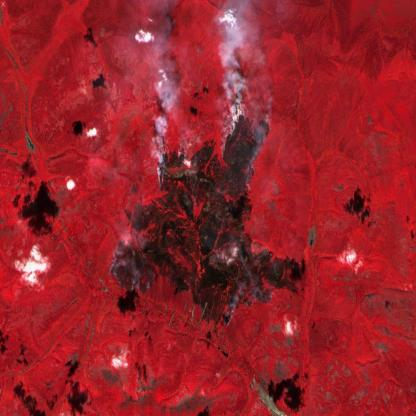fire: (108, 108, 304, 330)
